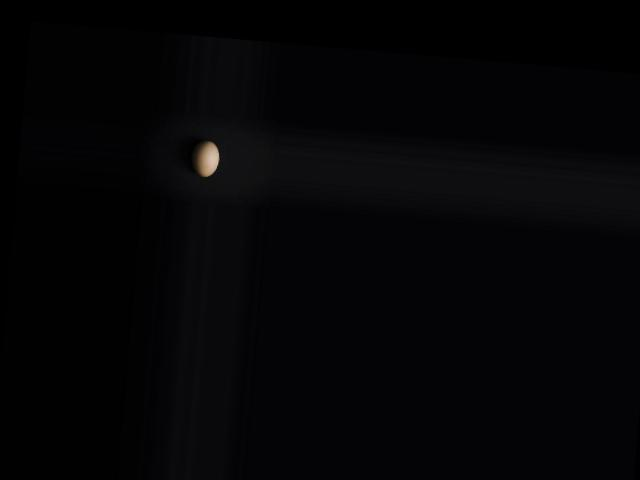egg: (191, 138, 221, 178)
